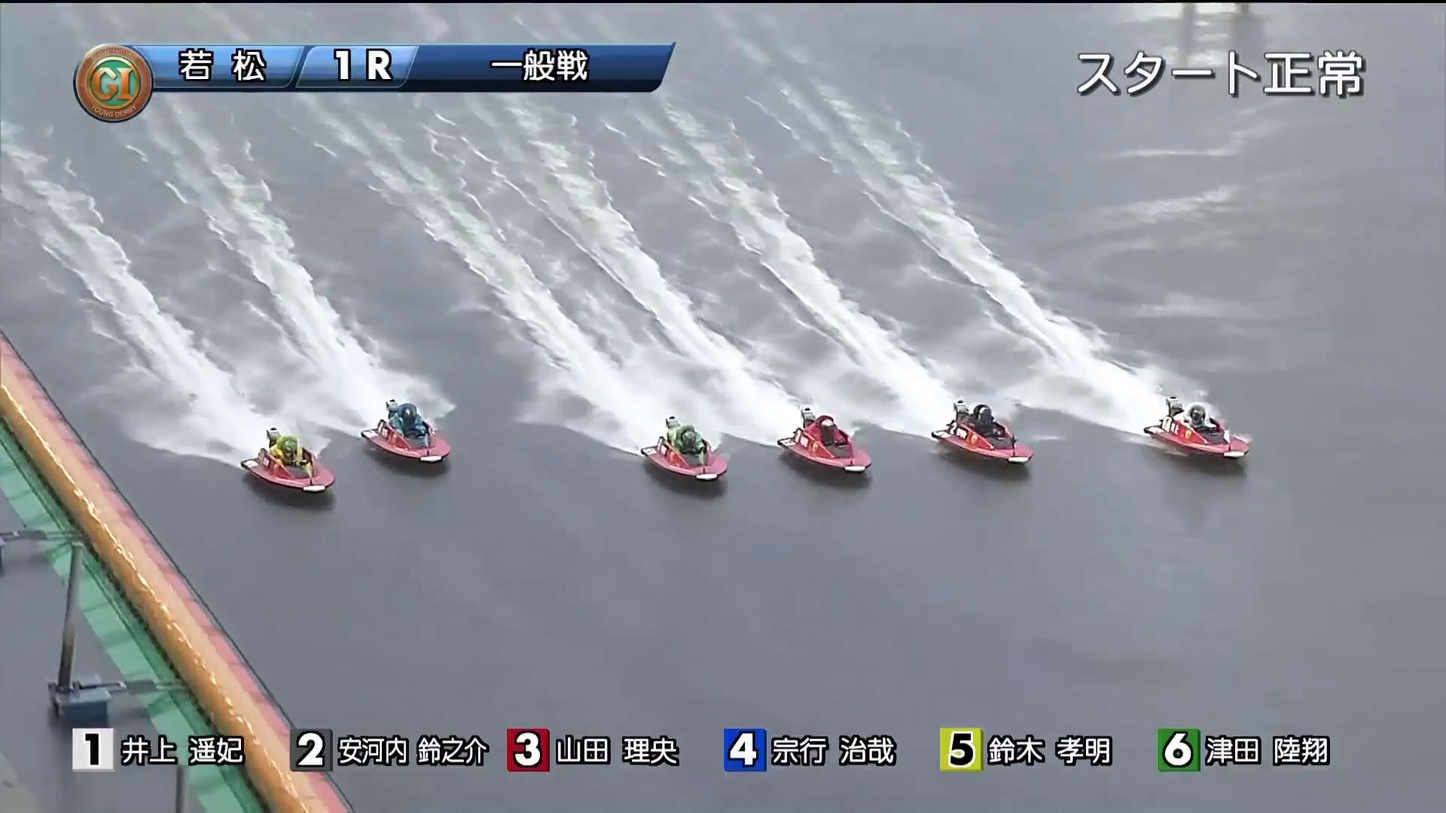１号艇: (1156, 390, 1252, 434)
２号艇: (945, 399, 1042, 442)
３号艇: (782, 425, 883, 467)
４号艇: (631, 423, 739, 470)
５号艇: (347, 395, 468, 450)
６号艇: (257, 441, 356, 498)
